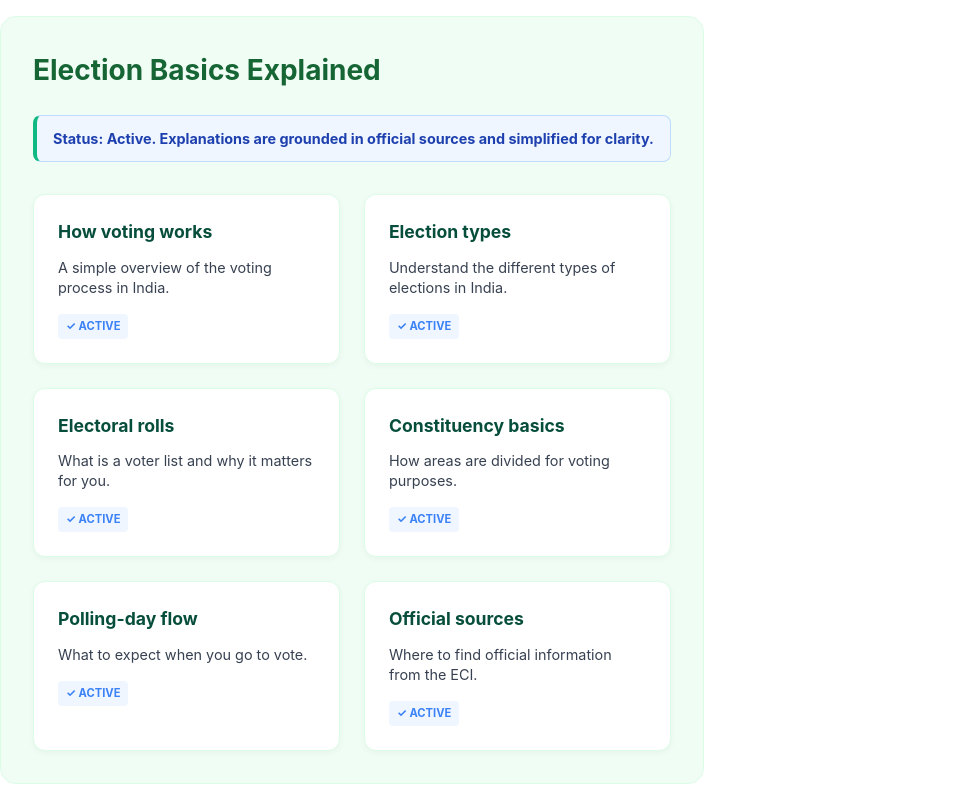
Test: ElectionBasicsExplainer › shows detail panel when a topic is selected
This screenshot has width=968, height=801.
Click the button "How voting works". click: (186, 279)
box: [58, 219, 315, 339]
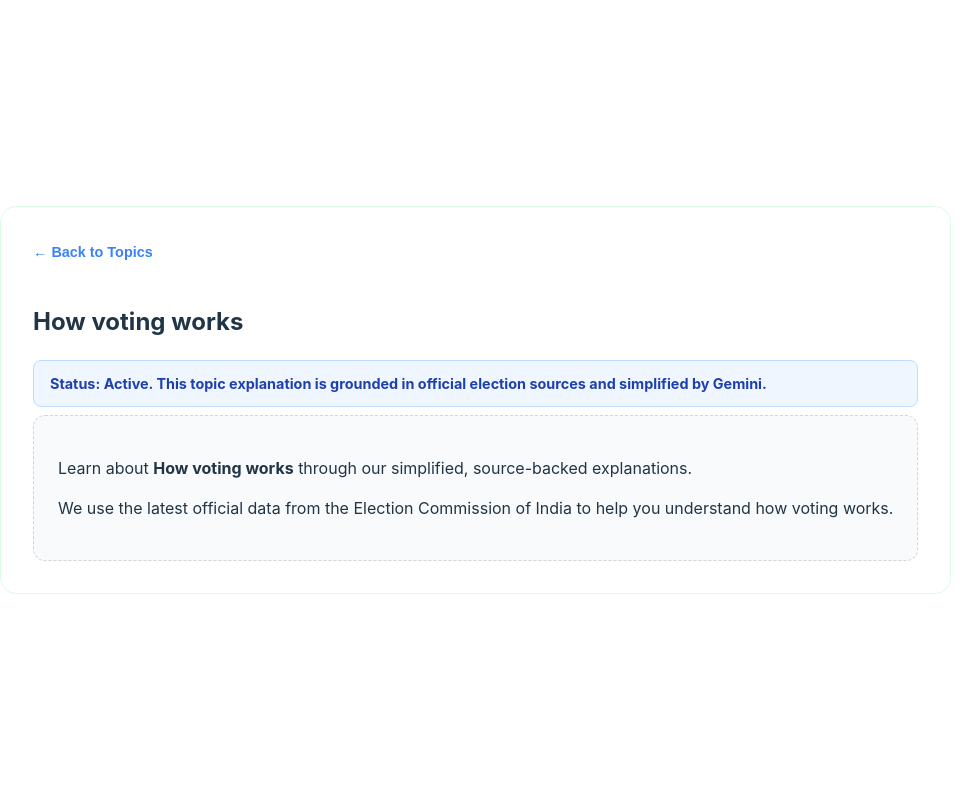
Now the heading "How voting works" is shown, box [33, 307, 244, 336]
Now the text "This topic explanation is grounded in official election sources" is shown, box [100, 375, 767, 392]
Now the text "Learn about" is shown, box [58, 458, 153, 478]
